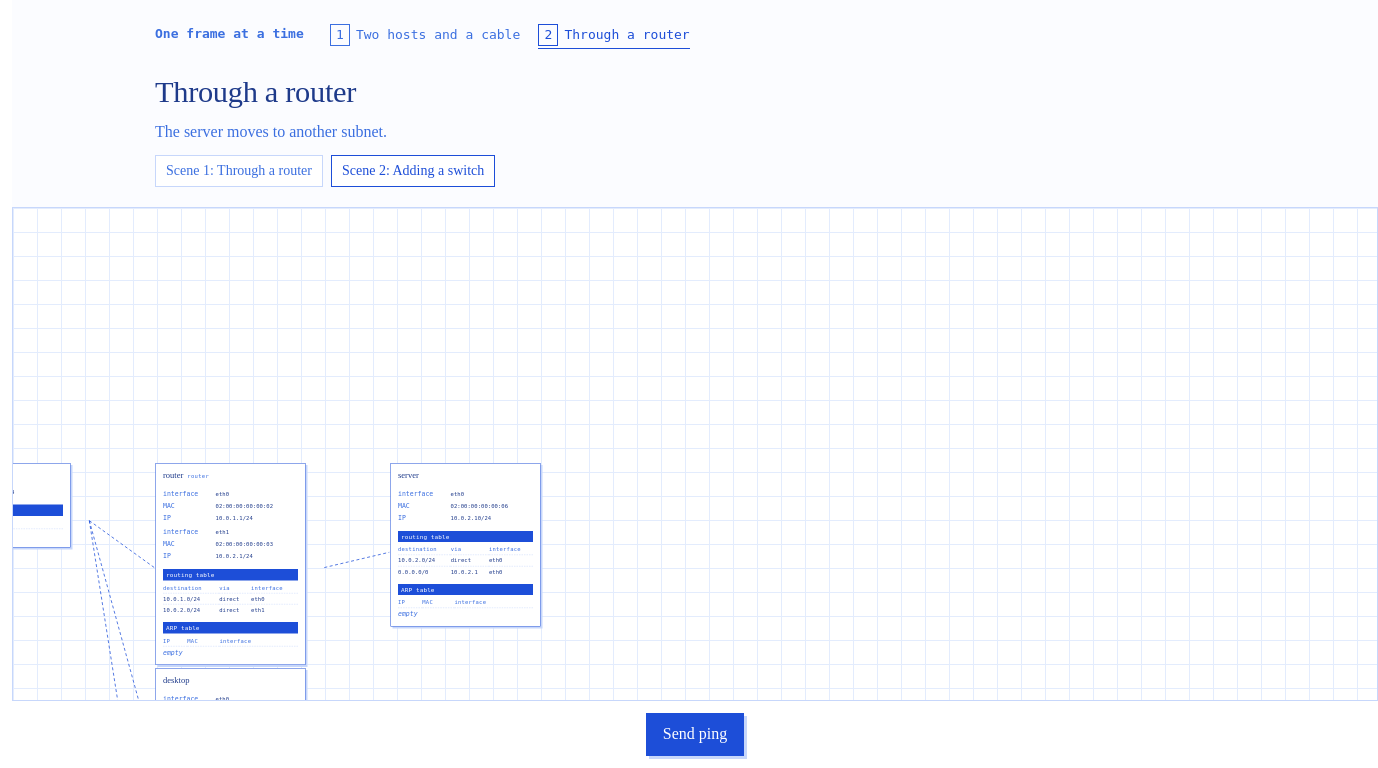
Test: lesson picker and scenes › draws a switch with its ports and fills its MAC table as it learns
Click the button "Send ping".
click(695, 735)  # box [646,713,744,756]
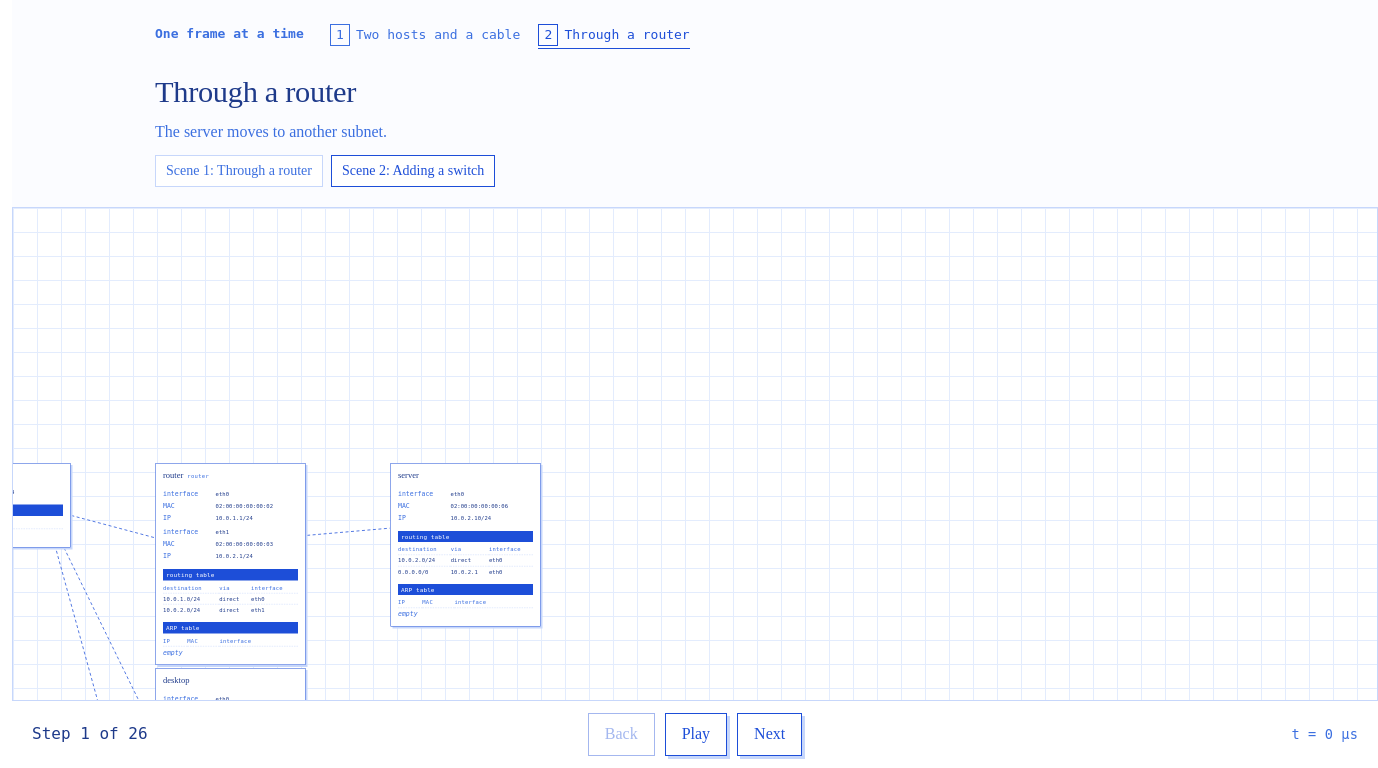
Click the button "Next".
click(770, 735)  # box [737,713,802,756]
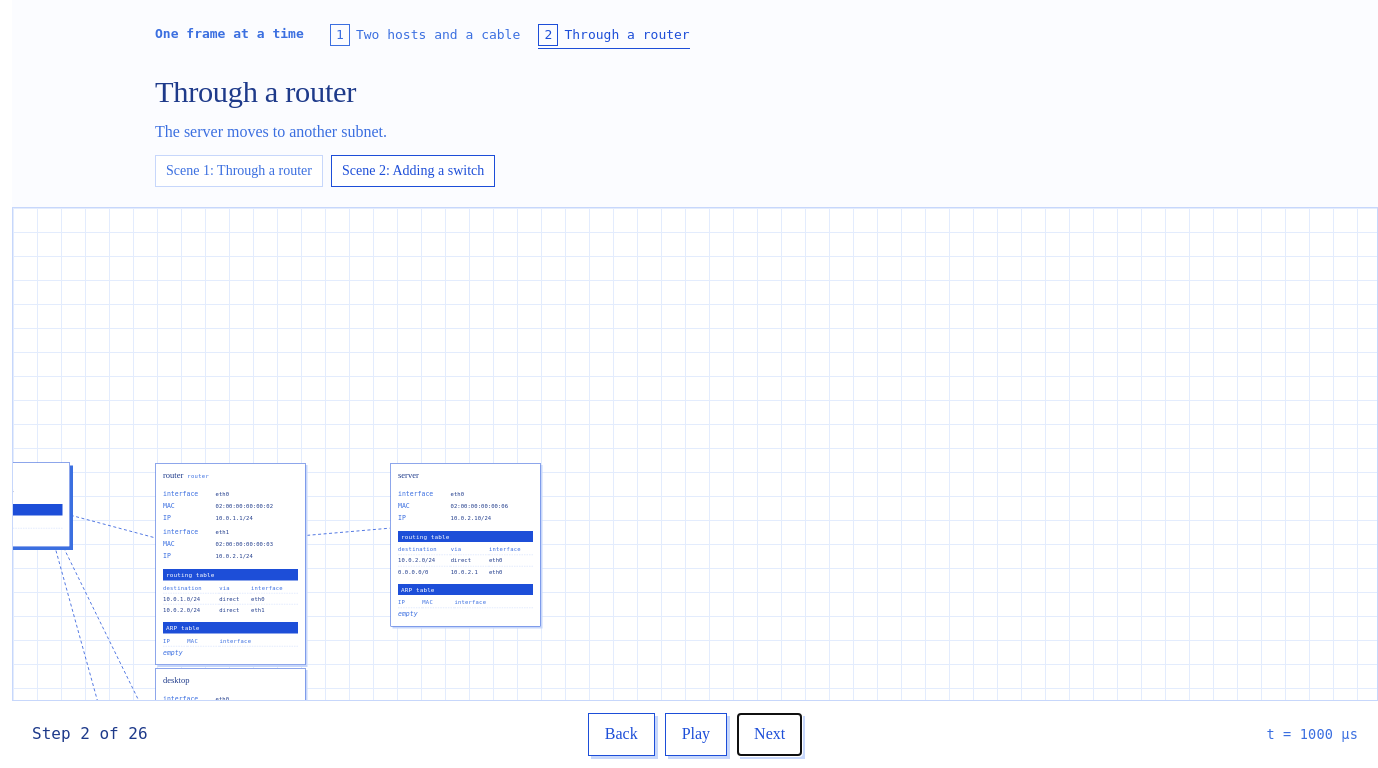
Click the button "Next".
click(770, 735)  # box [737,713,802,756]
(page scrolled)
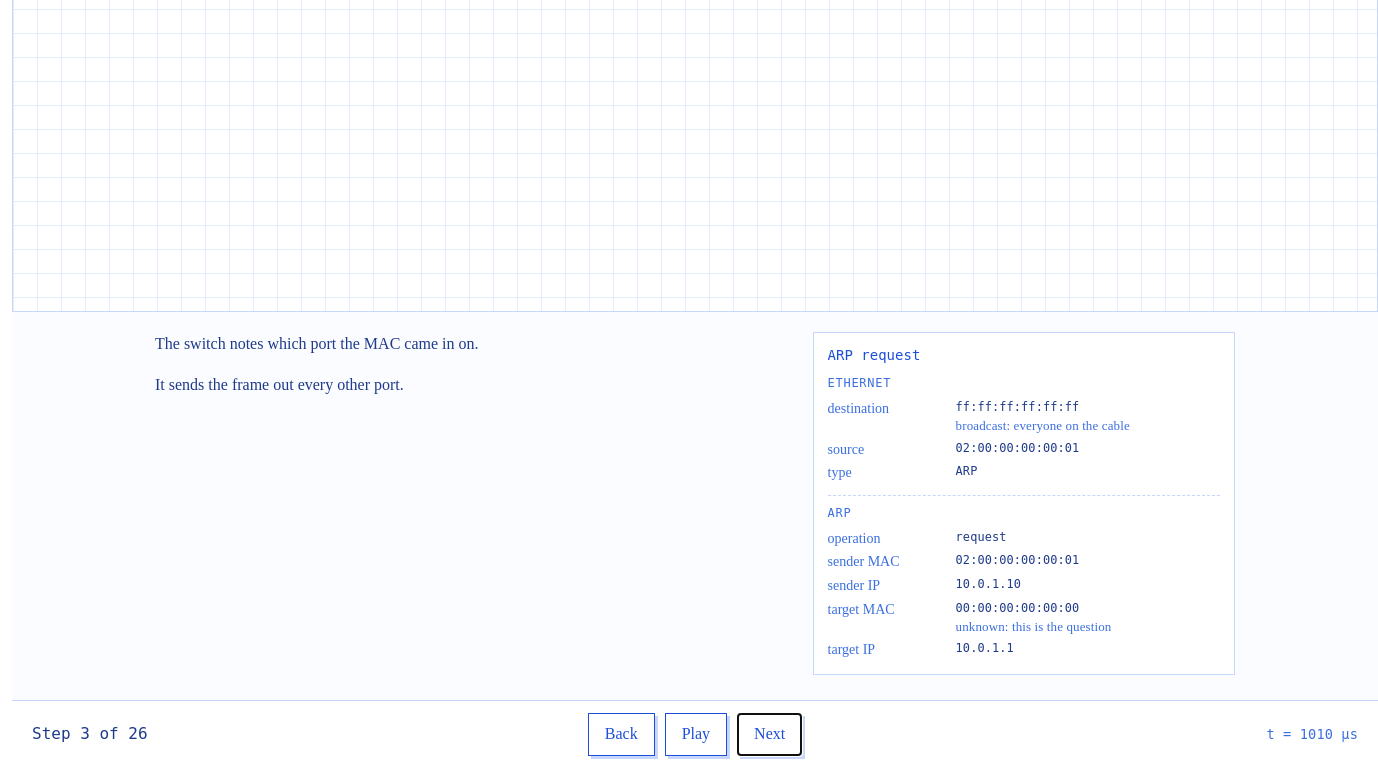
Expected: the text "Step 3 of 26" is shown, [32,722,148,747]
Expected: the text "It sends the frame out every other port." is shown, [155,376,404,392]
